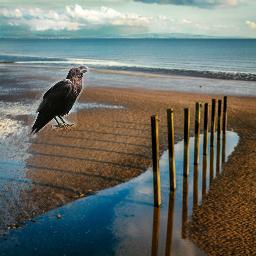Crow: (28, 65, 90, 135)
